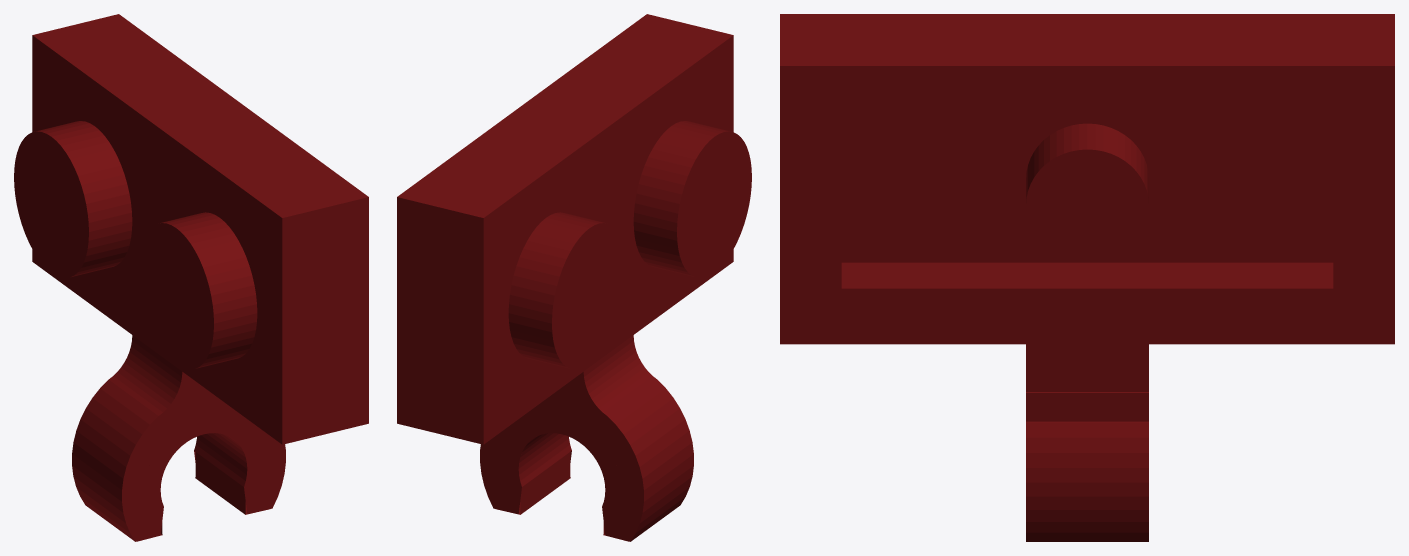
3 renders of one model, left to right at view 1: azimuth 30°, elevation 25°; view 2: azimuth 150°, elevation 25°; view 3: azimuth 270°, elevation 25°, orthographic. The views are drawn at different scales.
Parts seen in each view (by area): view 1: box3u4a, mesh_42, _4_4disc_1, _4_4disc_2, _1_4cyli_4, clip6, _1_4cyli_9, _1_4cyli_5, _3_16cyli, _1_4chrd_1, _1_4cyli_8, _1_4cyli_12 (+7 smaller); view 2: box3u4a, mesh_42, _4_4disc_2, _4_4disc_1, _1_4cyli_4, clip6, _1_4cyli_6, _1_4cyli_10, _3_16cyli, _1_4chrd, _1_4cyli_11, _1_4cyli_7 (+7 smaller); view 3: mesh_42, box5, box3u4a, _3_16cyli_1, _4_4disc, rect2p, rect2p_1, _1_4cyli_1, _1_4cyli.
Part boxes in pixels (x1,y1,x2,y2): box3u4a: [32, 14, 368, 444]; mesh_42: [32, 35, 282, 444]; _4_4disc_1: [139, 223, 213, 369]; _4_4disc_2: [14, 131, 88, 277]; _1_4cyli_4: [72, 379, 158, 541]; clip6: [135, 372, 272, 541]; _1_4cyli_9: [52, 126, 132, 231]; _1_4cyli_5: [177, 217, 257, 323]; _3_16cyli: [109, 335, 182, 415]; _1_4chrd_1: [122, 416, 158, 541]; _1_4cyli_8: [196, 313, 257, 368]; _1_4cyli_12: [71, 222, 132, 276]; box3u4a: [397, 14, 733, 444]; mesh_42: [483, 35, 733, 444]; _4_4disc_2: [552, 223, 626, 369]; _4_4disc_1: [677, 131, 751, 277]; _1_4cyli_4: [607, 379, 693, 541]; clip6: [493, 372, 630, 541]; _1_4cyli_6: [633, 126, 713, 231]; _1_4cyli_10: [508, 217, 588, 323]; _3_16cyli: [583, 335, 656, 415]; _1_4chrd: [607, 416, 643, 541]; _1_4cyli_11: [508, 313, 569, 368]; _1_4cyli_7: [633, 222, 694, 276]; mesh_42: [780, 66, 1394, 344]; box5: [841, 121, 1333, 288]; box3u4a: [780, 14, 1394, 65]; _3_16cyli_1: [1026, 422, 1148, 541]; _4_4disc: [1026, 149, 1148, 260]; rect2p: [1026, 344, 1148, 391]; rect2p_1: [1026, 393, 1148, 421]; _1_4cyli_1: [1087, 123, 1148, 202]; _1_4cyli: [1026, 123, 1087, 202].
Bounding box in the file's own units: 15.15 × 34.04 × 40.
